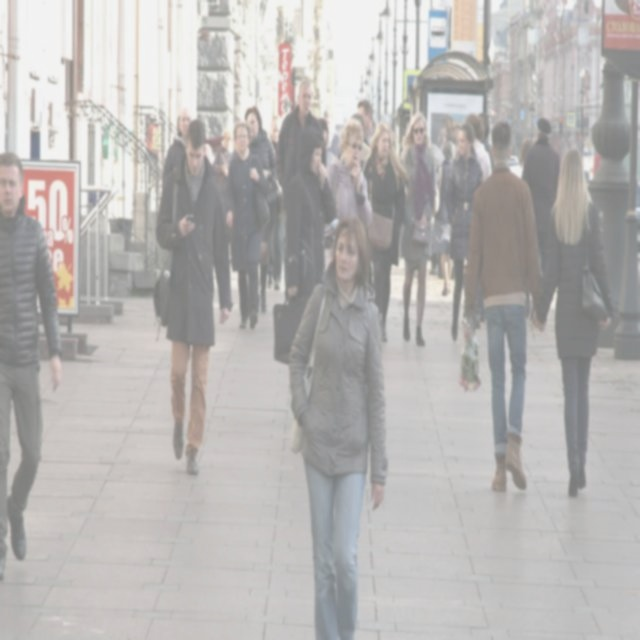pessoa: (286, 211, 392, 638), (457, 120, 548, 498), (530, 142, 616, 500), (150, 118, 234, 480), (0, 146, 64, 586), (358, 120, 408, 347), (221, 120, 272, 335), (396, 109, 438, 348), (282, 125, 338, 303), (444, 120, 486, 346), (274, 78, 328, 216), (520, 116, 562, 291), (244, 104, 278, 316), (325, 116, 375, 231), (433, 138, 458, 298), (160, 104, 193, 183), (465, 109, 493, 183), (212, 126, 235, 194), (318, 114, 342, 172), (350, 98, 376, 150), (267, 230, 284, 292), (266, 112, 282, 150), (517, 136, 532, 170)
